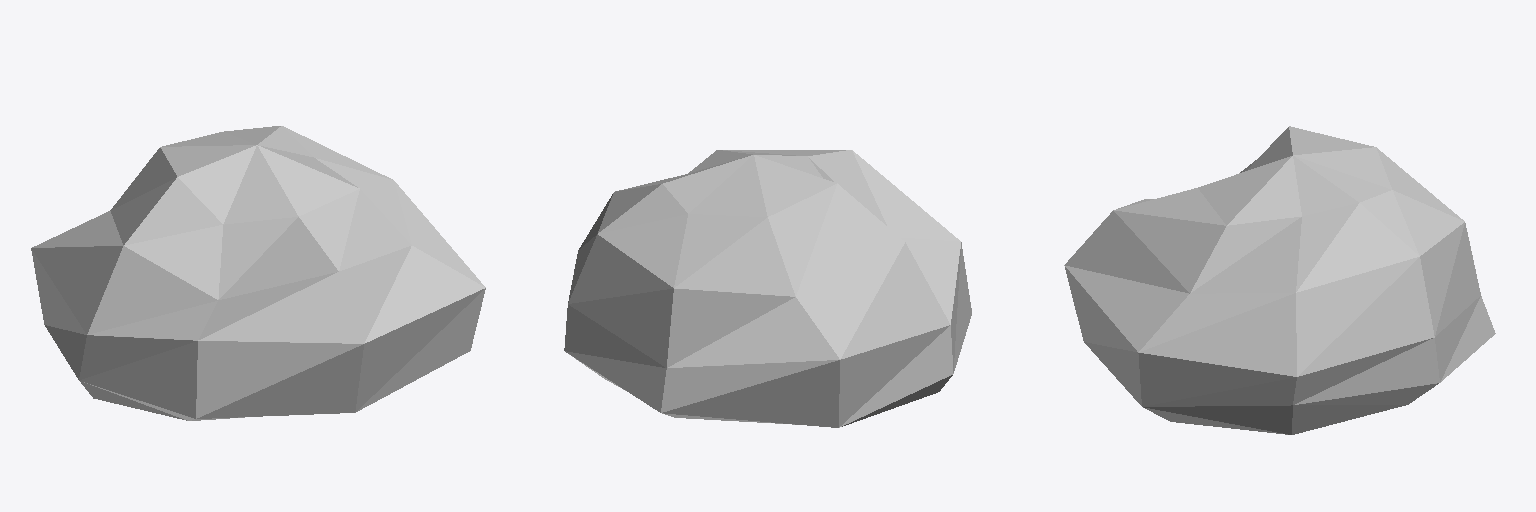
The model's file is SmallRock04_mesh.obj.
The picture shows the model from 3 angles: view 1: azimuth 30°, elevation 25°; view 2: azimuth 150°, elevation 25°; view 3: azimuth 270°, elevation 25°; orthographic projection.
Parts seen in each view (by area): view 1: SmallRock04_mesh SmallRock04 SmallRocks; view 2: SmallRock04_mesh SmallRock04 SmallRocks; view 3: SmallRock04_mesh SmallRock04 SmallRocks.
Part boxes in pixels (left/top/right/bottom): SmallRock04_mesh SmallRock04 SmallRocks: left=31, top=126, right=485, bottom=420; SmallRock04_mesh SmallRock04 SmallRocks: left=564, top=150, right=971, bottom=427; SmallRock04_mesh SmallRock04 SmallRocks: left=1064, top=126, right=1495, bottom=434.
Bounding box in the file's own units: 540 × 297 × 557.